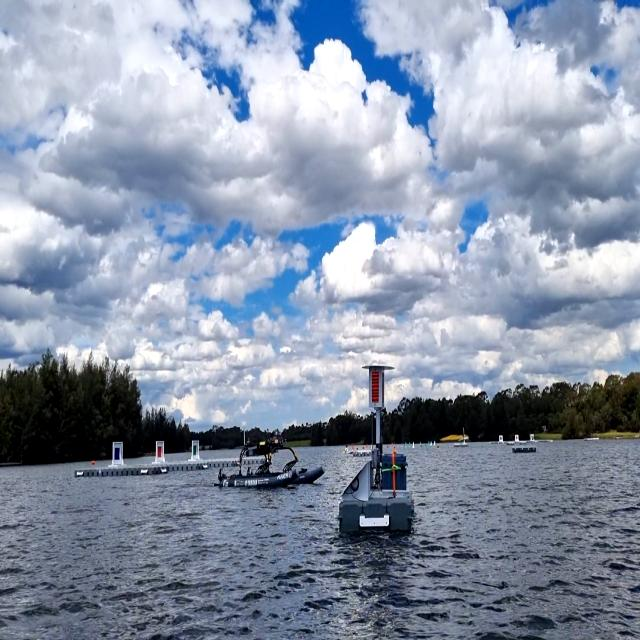led: (370, 368, 381, 404)
